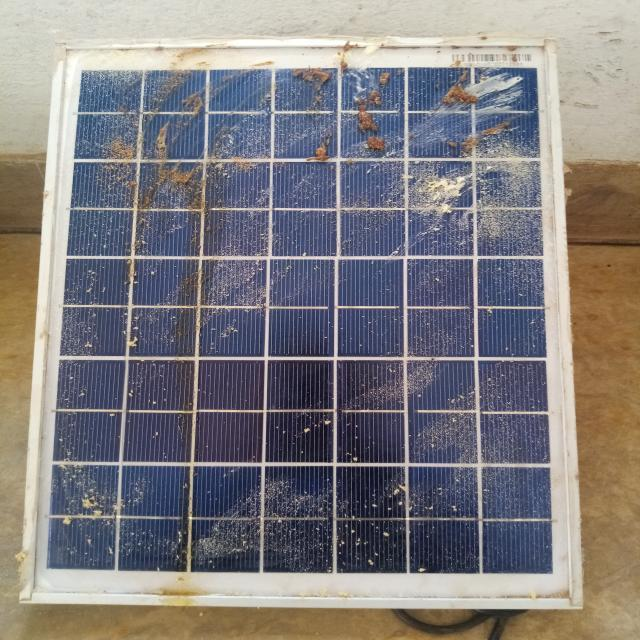faulty: (27, 34, 578, 609)
